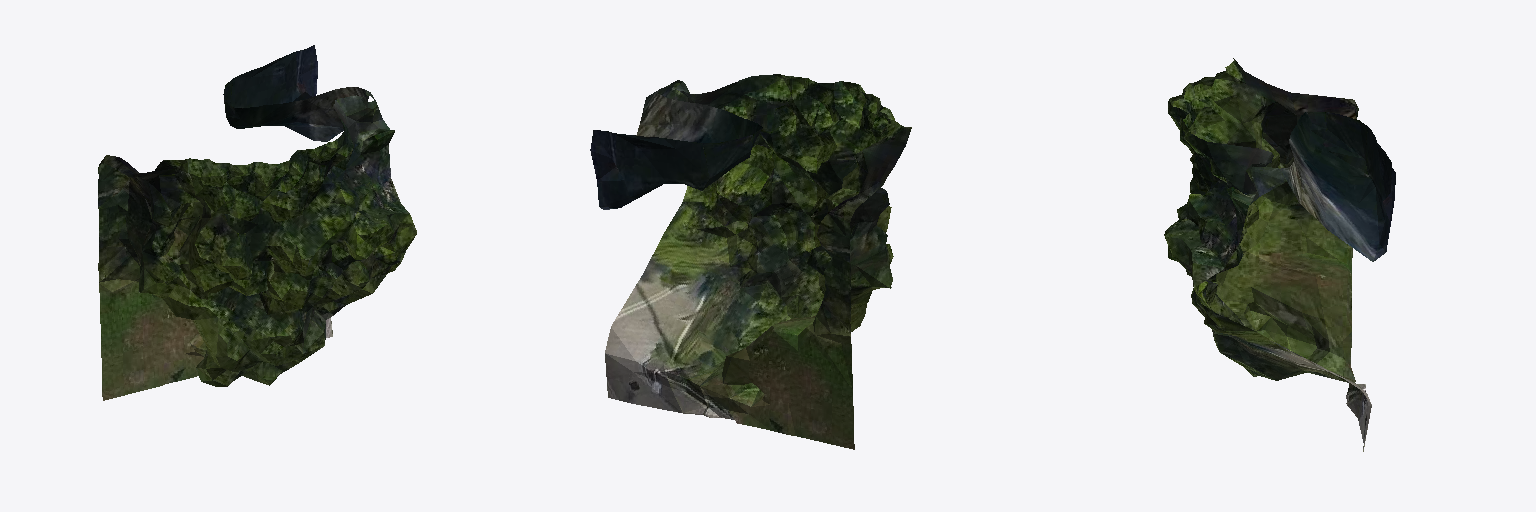
The picture shows the model from 3 angles: view 1: azimuth 30°, elevation 25°; view 2: azimuth 150°, elevation 25°; view 3: azimuth 270°, elevation 25°; orthographic projection.
Parts seen in each view (by area): view 1: obj_0; view 2: obj_0; view 3: obj_0.
Boxes of the visible parts, x1,y1,x2,y2 form: obj_0: [98, 45, 416, 400]; obj_0: [590, 74, 911, 449]; obj_0: [1164, 58, 1395, 451].
Bounding box in the file's own units: 20.18 × 22.53 × 16.85.
Materials: 1 (1 with a texture image).